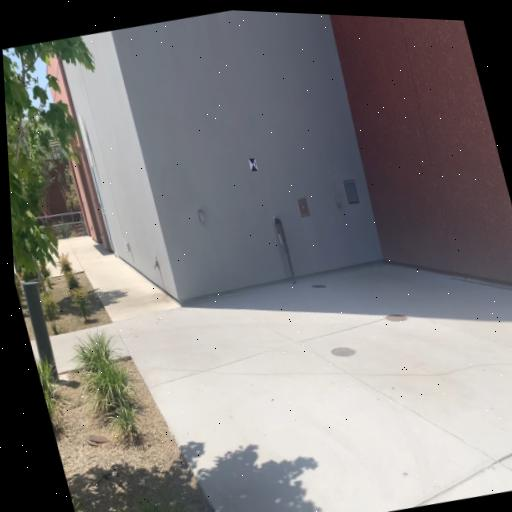target3: (247, 157, 259, 172)
